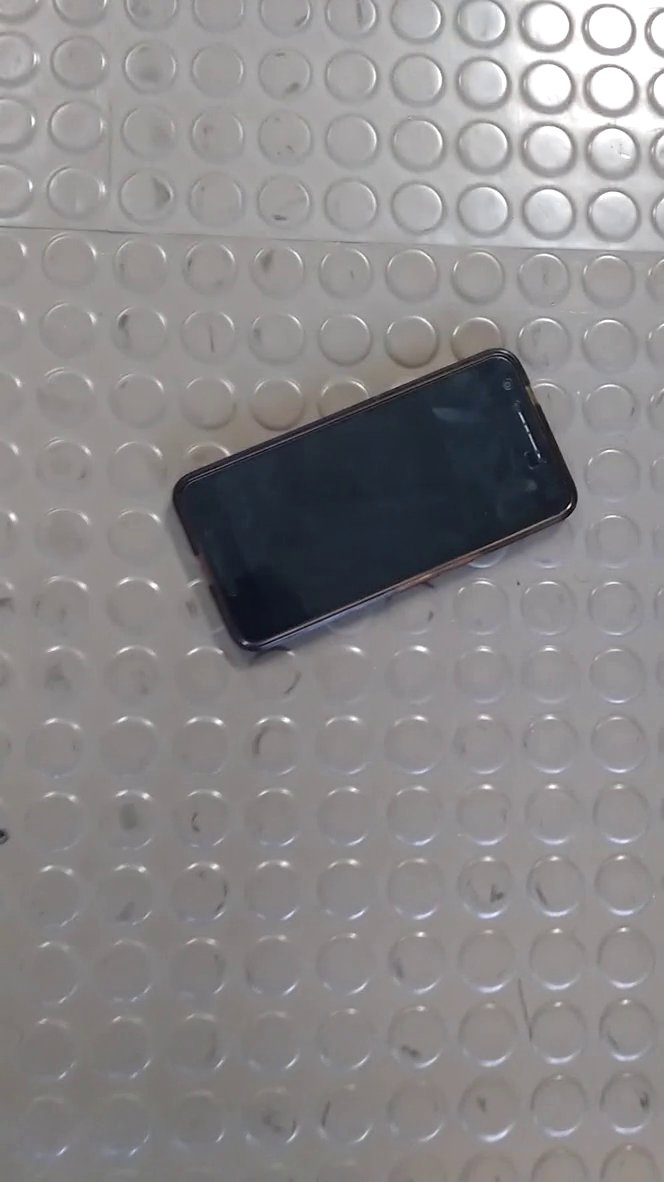phone: (160, 333, 590, 668)
